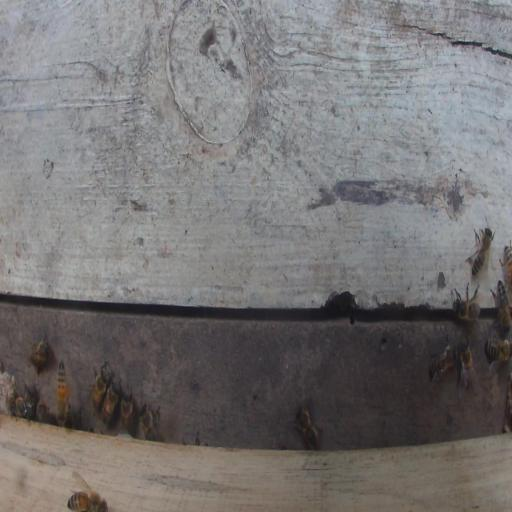bee: (459, 343, 481, 397), (472, 227, 495, 277), (429, 344, 458, 382), (296, 406, 320, 450), (56, 359, 72, 425), (67, 489, 109, 511), (486, 338, 512, 373), (497, 279, 511, 335), (102, 382, 119, 426), (92, 366, 108, 410), (139, 404, 158, 441), (452, 298, 480, 323), (32, 334, 49, 371), (10, 395, 35, 418), (121, 390, 132, 434), (504, 245, 512, 290)
